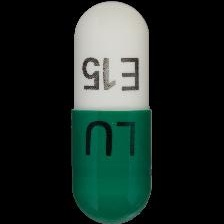68180-759: (0, 0, 224, 224)
